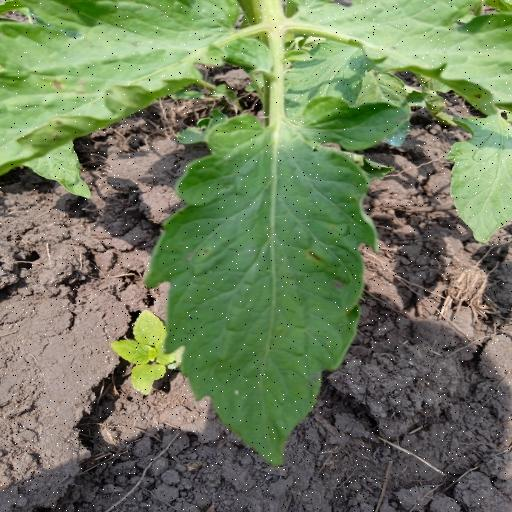Tomato_Mildiou: (146, 112, 390, 472)
